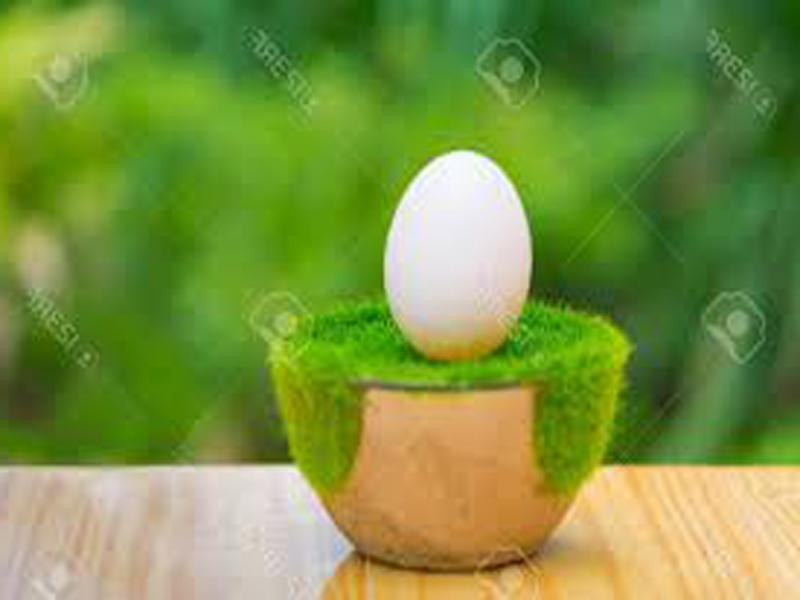Eggs: (380, 154, 528, 361)
